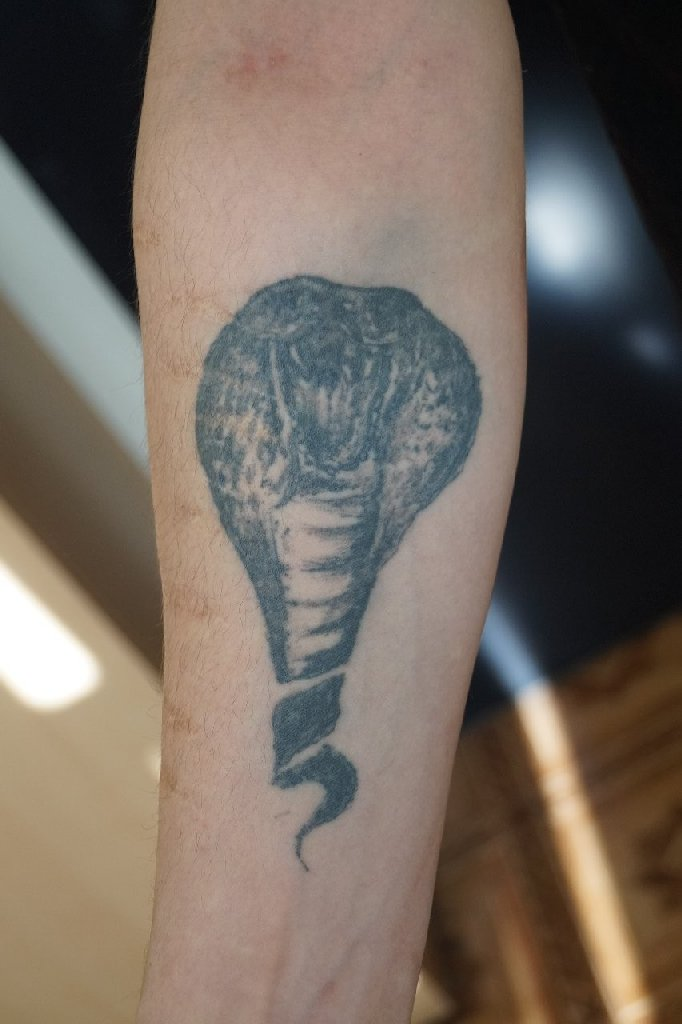tatu7_zmeya: (126, 255, 568, 697)
